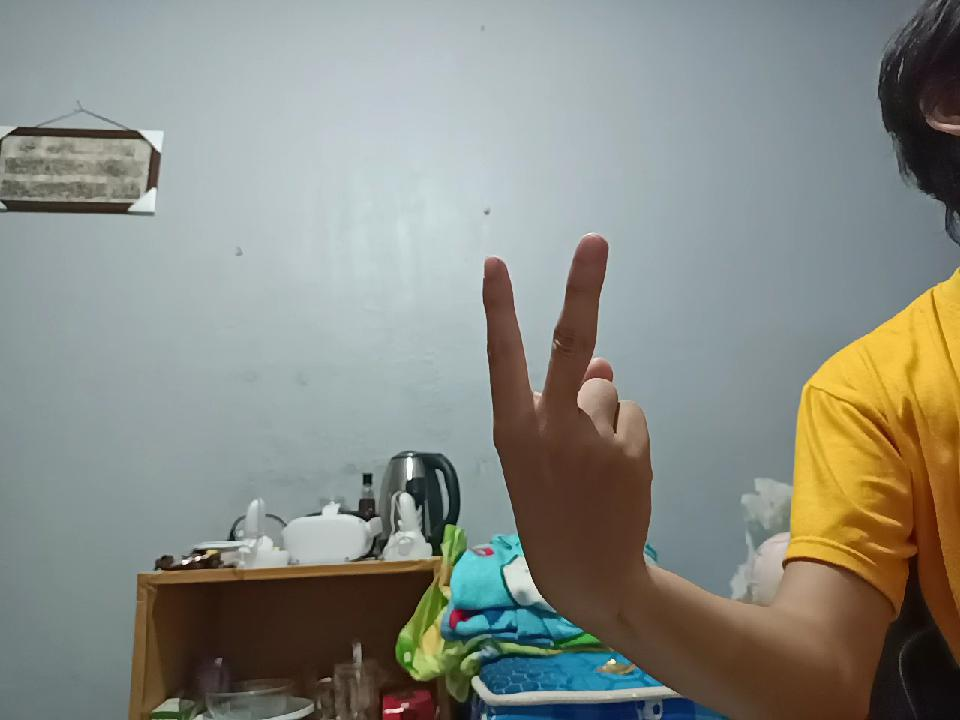scissors: (438, 225, 655, 604)
